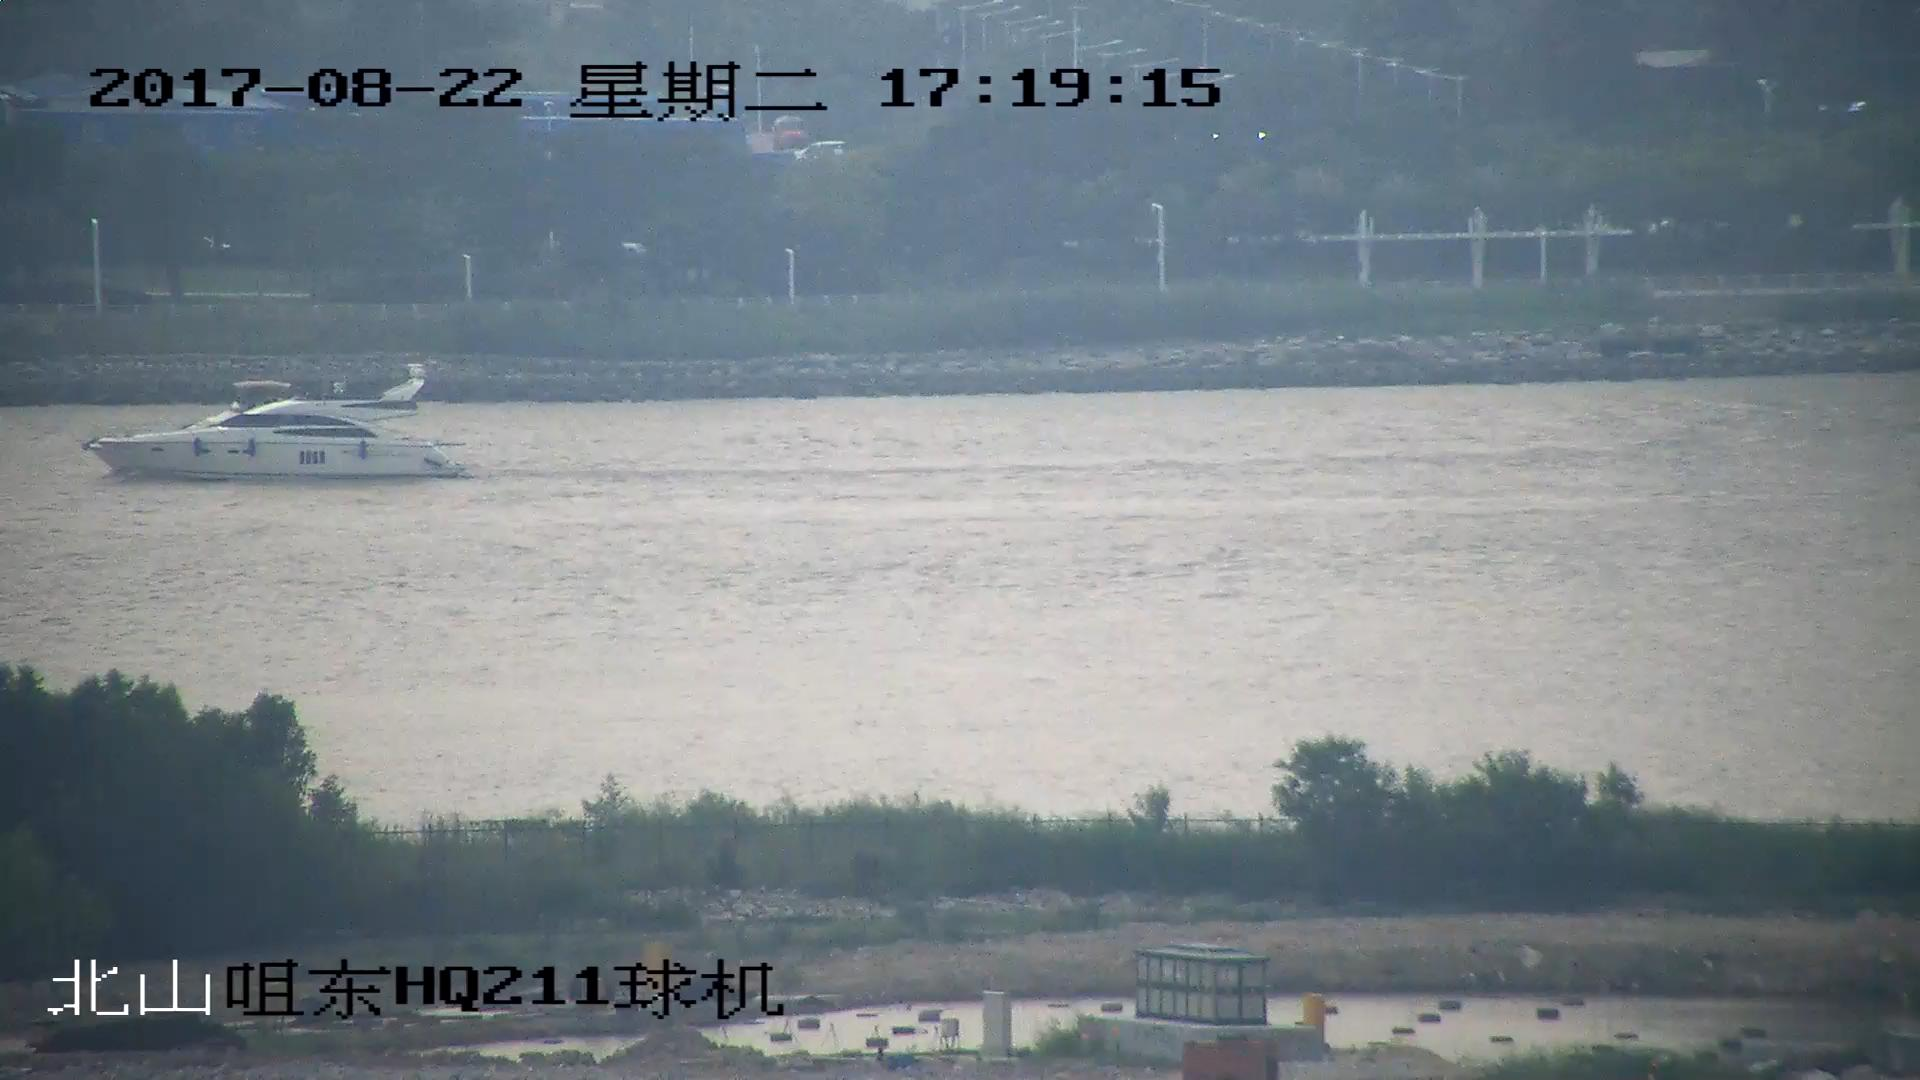passenger ship: (82, 365, 464, 479)
